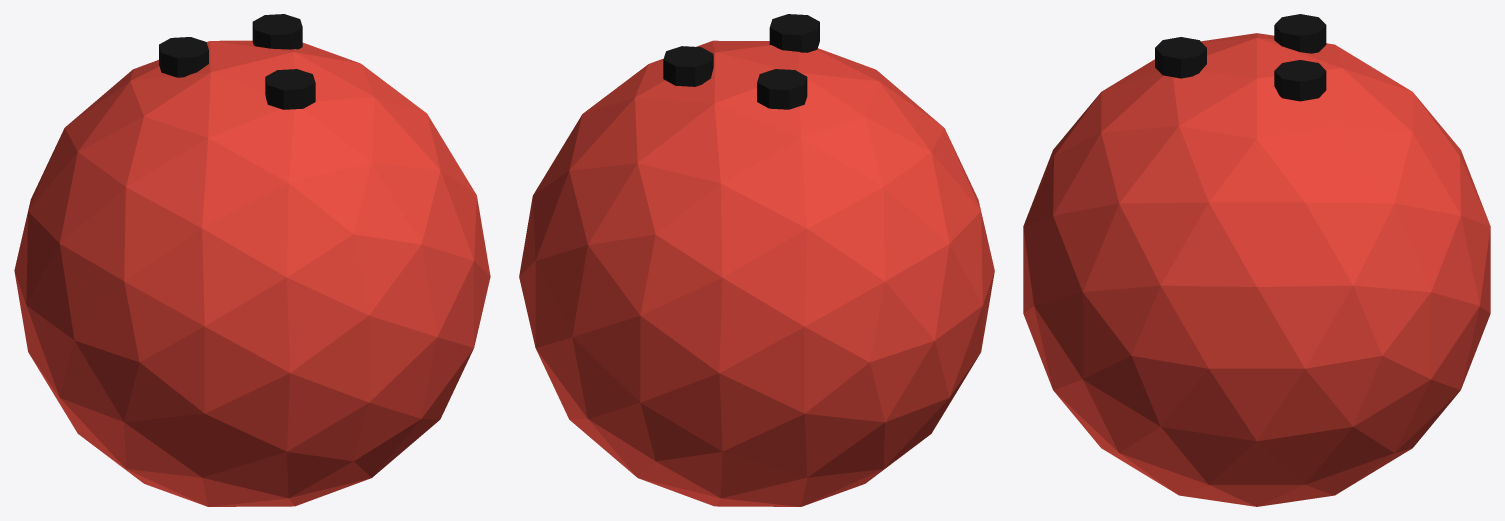
The model's file is bowling_ball_1.glb.
3 renders of one model, left to right at view 1: azimuth 30°, elevation 25°; view 2: azimuth 150°, elevation 25°; view 3: azimuth 270°, elevation 25°, orthographic.
Parts seen in each view (by area): view 1: ball, hole_ball_hole; view 2: ball, hole_ball_hole; view 3: ball, hole_ball_hole.
Boxes of the visible parts, box(x1,y1,x2,y2) form: ball: box(14, 40, 490, 506); hole_ball_hole: box(159, 14, 315, 109); ball: box(519, 40, 994, 506); hole_ball_hole: box(663, 14, 819, 109); ball: box(1023, 33, 1490, 506); hole_ball_hole: box(1155, 14, 1326, 101).
Size of the model in its own units: 0.2155 by 0.2207 by 0.2155.
